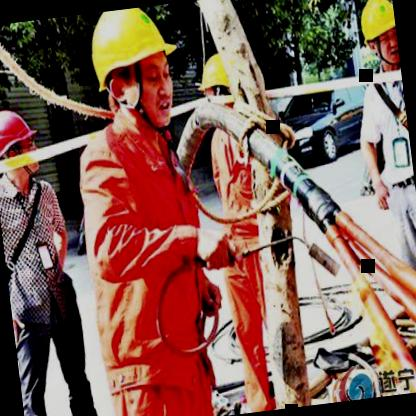helmet: (81, 4, 182, 141), (352, 0, 400, 72), (0, 104, 41, 177), (196, 50, 236, 113)
